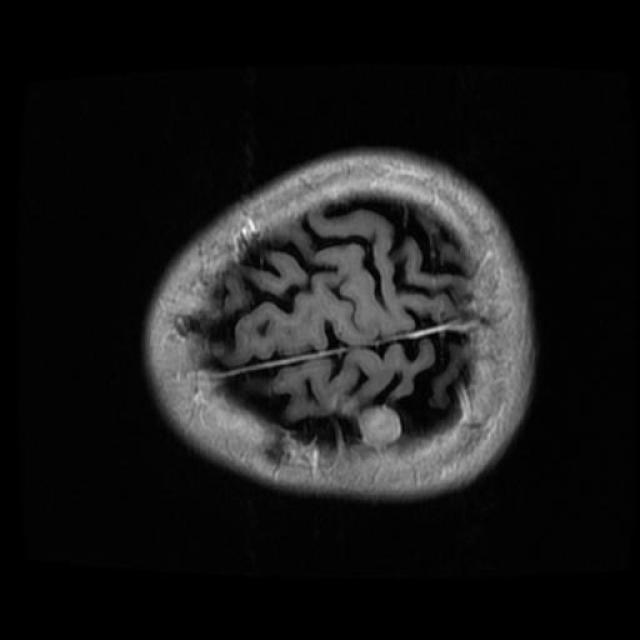Meningioma: (358, 406, 401, 447)
